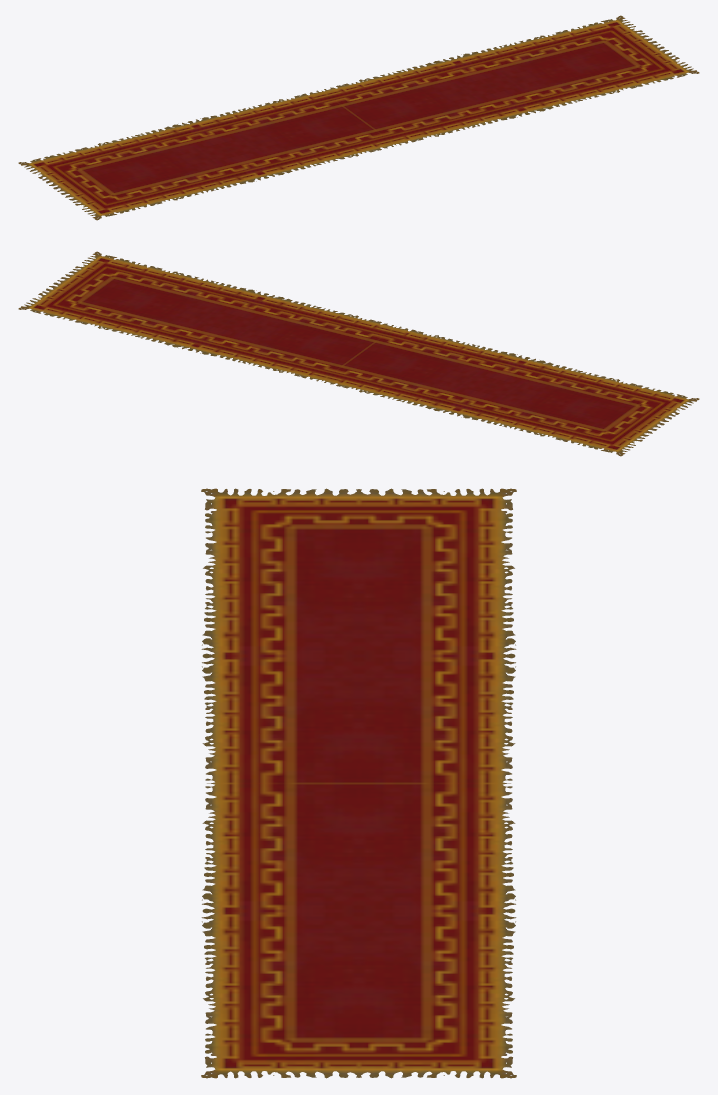
File: Carpet_1C.fbx
3 views of the same model, one above another, from view 1: azimuth 30°, elevation 25°; view 2: azimuth 150°, elevation 25°; view 3: azimuth 270°, elevation 25° (orthographic). The views are drawn at different scales.
Parts seen in each view (by area): view 1: pPlane105; view 2: pPlane105; view 3: pPlane105.
Boxes of the visible parts, x1,y1,x2,y2 form: pPlane105: (18, 15, 699, 220); pPlane105: (18, 251, 699, 456); pPlane105: (201, 488, 516, 1078).
Size of the model in its own units: 12.25 by 3.11e-16 by 2.8.
